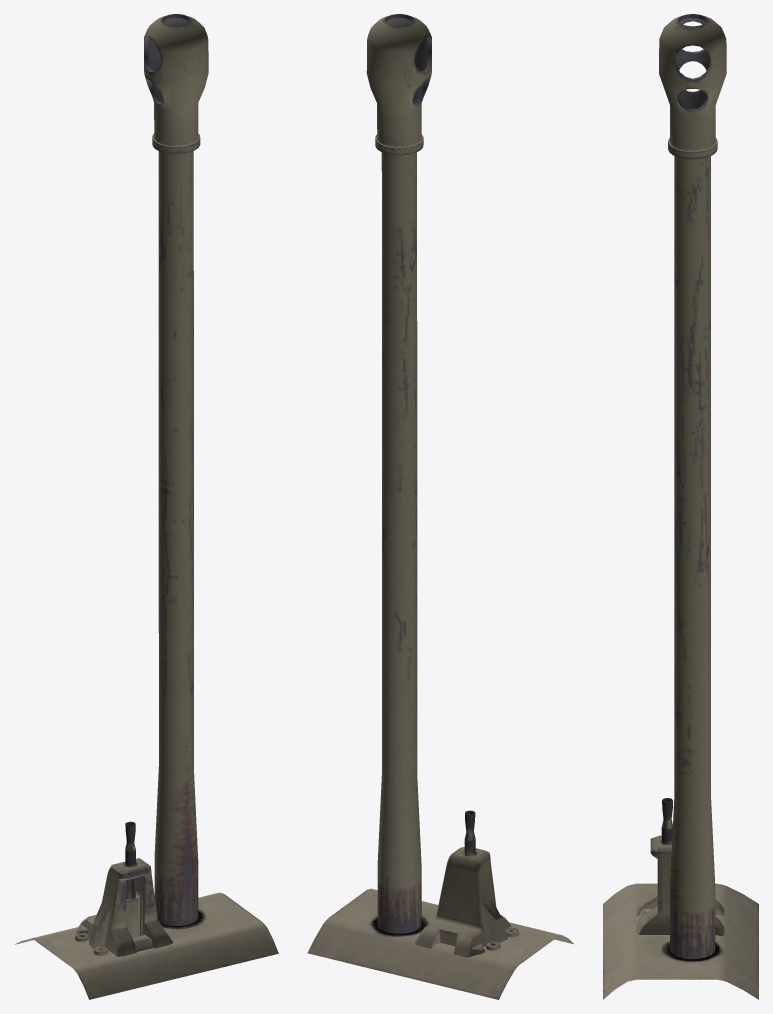
The model's file is Gun_03.glb.
3 renders of one model, left to right at view 1: azimuth 30°, elevation 25°; view 2: azimuth 150°, elevation 25°; view 3: azimuth 270°, elevation 25°, orthographic. The views are drawn at different scales.
Visible parts, largest first — view 1: set_0_group_0; view 2: set_0_group_0; view 3: set_0_group_0.
Boxes of the visible parts, <box> form: set_0_group_0: <box>15,14,278,999</box>; set_0_group_0: <box>307,14,573,999</box>; set_0_group_0: <box>603,14,758,999</box>.
Size of the model in its own units: 0.6828 by 3.15 by 0.4689.
1 material, 1 textured.
